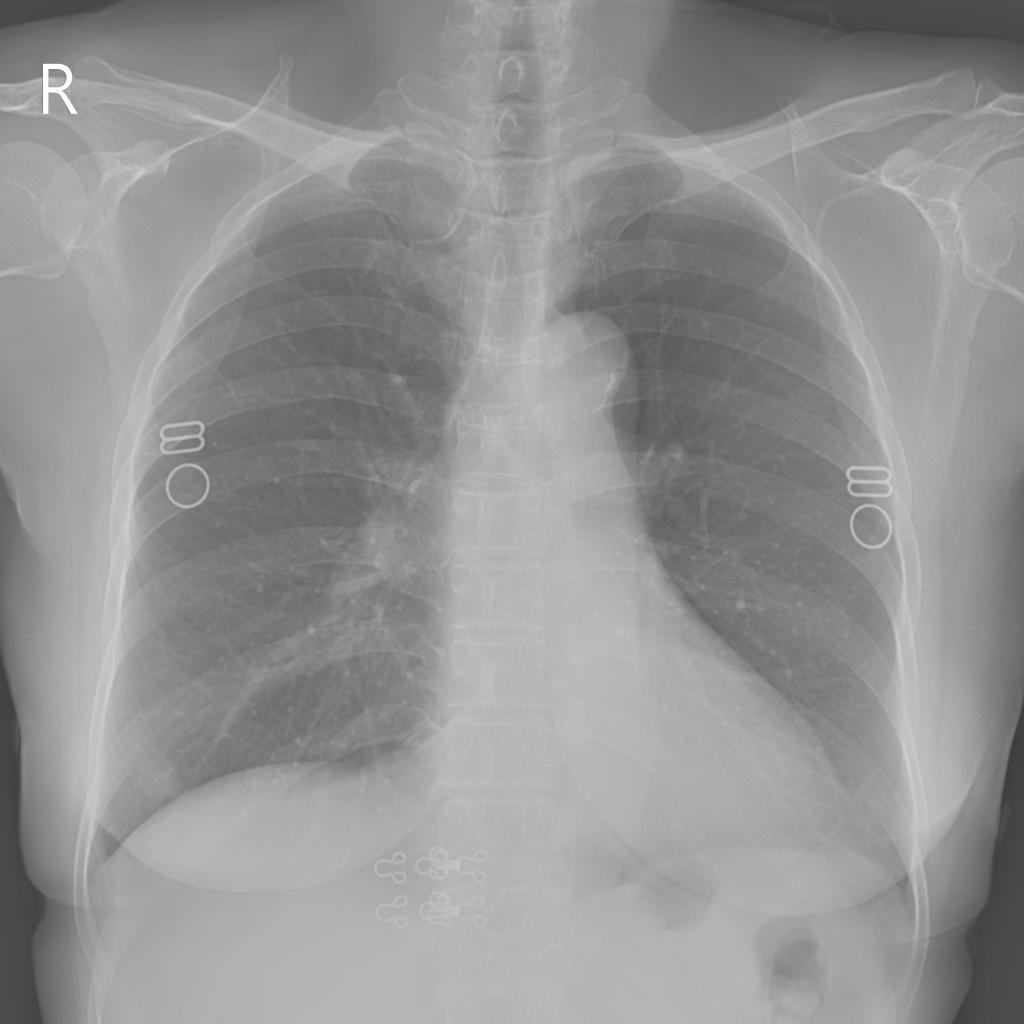Nodule: (126, 763, 174, 807)
